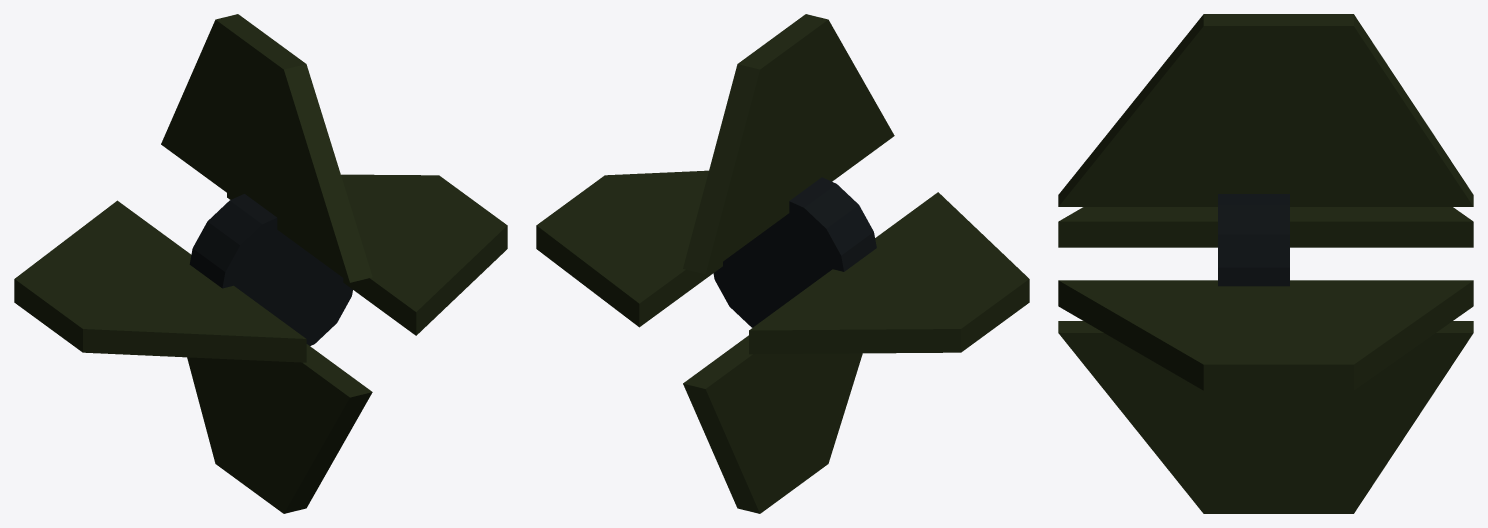
The model's file is BombGlide__Tail.obj.
3 renders of one model, left to right at view 1: azimuth 30°, elevation 25°; view 2: azimuth 150°, elevation 25°; view 3: azimuth 270°, elevation 25°, orthographic. The views are drawn at different scales.
Parts seen in each view (by area): view 1: Tail_stabilizer.001, Tail_stabilizer.002, Tail_stabilizer.003, Tail_stabilizer, Tail_collar; view 2: Tail_stabilizer.001, Tail_stabilizer.002, Tail_stabilizer.003, Tail_stabilizer, Tail_collar; view 3: Tail_stabilizer.001, Tail_stabilizer.003, Tail_stabilizer, Tail_stabilizer.002, Tail_collar.
Boxes of the visible parts, x1,y1,x2,y2 form: Tail_stabilizer.001: [161, 14, 372, 282]; Tail_stabilizer.002: [14, 200, 306, 362]; Tail_stabilizer.003: [187, 344, 372, 513]; Tail_stabilizer: [227, 174, 507, 335]; Tail_collar: [189, 194, 352, 345]; Tail_stabilizer.001: [683, 14, 894, 274]; Tail_stabilizer.002: [749, 192, 1029, 354]; Tail_stabilizer.003: [683, 335, 862, 513]; Tail_stabilizer: [536, 170, 722, 327]; Tail_collar: [713, 177, 876, 327]; Tail_stabilizer.001: [1058, 14, 1473, 206]; Tail_stabilizer.003: [1058, 321, 1473, 513]; Tail_stabilizer: [1058, 280, 1473, 390]; Tail_stabilizer.002: [1058, 207, 1473, 247]; Tail_collar: [1218, 194, 1289, 286].
Bounding box in the file's own units: 0.674 × 0.674 × 0.52.
